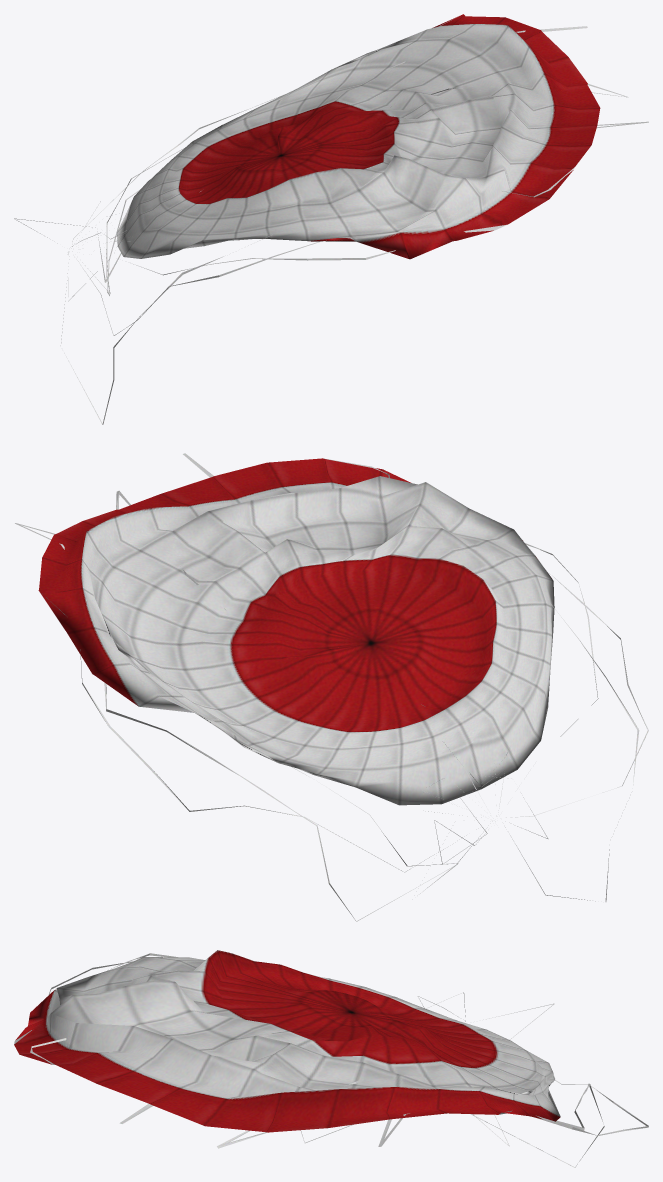
The model's file is parachute.dae.
3 renders of one model, top to bottom at view 1: azimuth 30°, elevation 25°; view 2: azimuth 150°, elevation 25°; view 3: azimuth 270°, elevation 25°, orthographic. The views are drawn at different scales.
Visible parts, largest first — view 1: parachute; view 2: parachute; view 3: parachute.
Boxes of the visible parts, box(x1,y1,x2,y2) form: parachute: box(14, 14, 648, 424); parachute: box(15, 453, 648, 921); parachute: box(14, 950, 648, 1167).
Bounding box in the file's own units: 29.32 × 25.91 × 14.12.
Materials: 1 (1 with a texture image).
